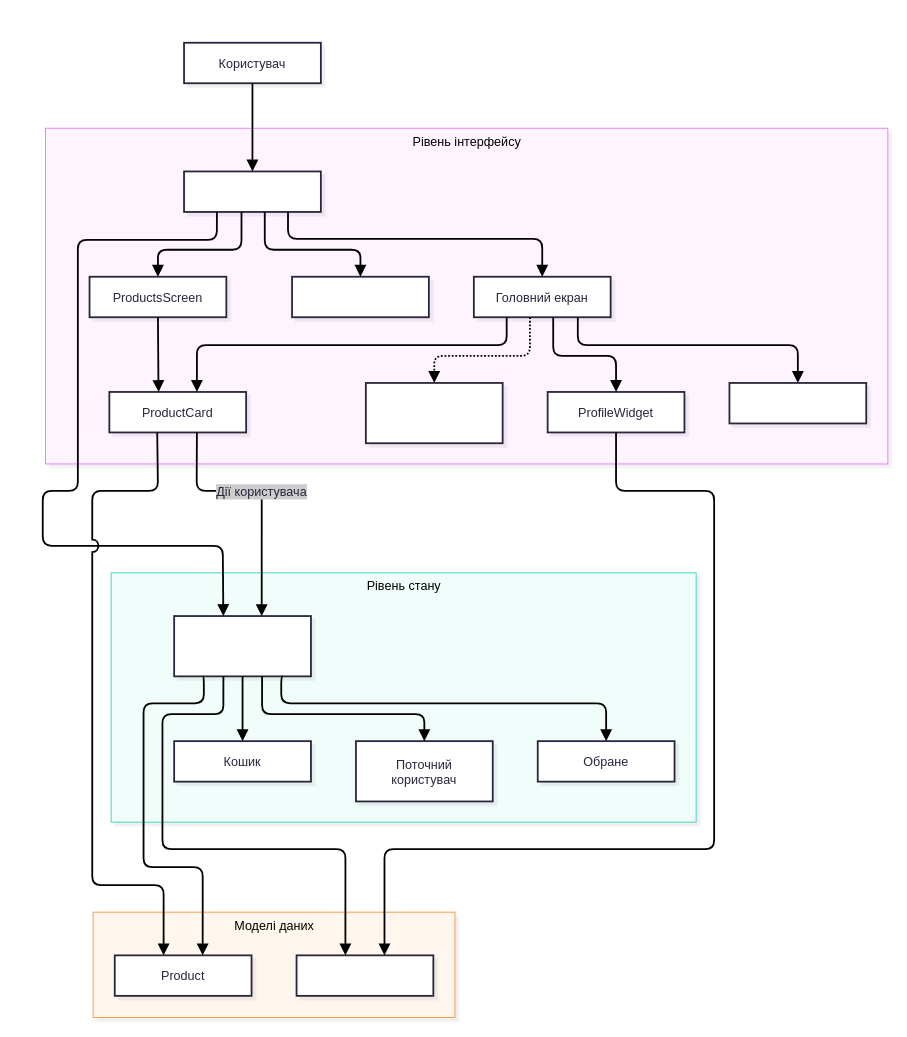
The diagram is 907 pixels wide and 1037 high, and some of its shapes have lost their labels. The centre of each missing label's shape, as x and y in pixels:
"AnimatedCounter" belongs at [799,405].
"AppNavigation" belongs at [254,193].
"AppState ChangeNotifier" belongs at [244,647].
"CustomButton — після реалізації" belongs at [435,414].
"ProfileScreen" belongs at [362,298].
"User" belongs at [366,977].
